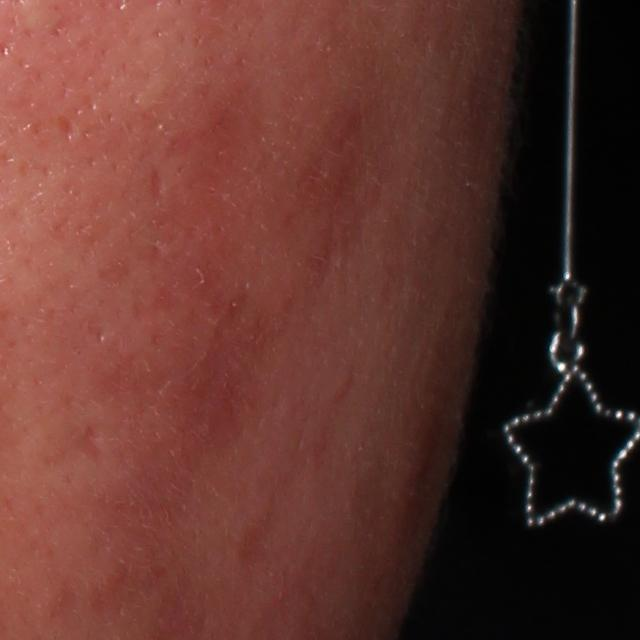atrophic_scar: (53, 415, 107, 467), (56, 110, 80, 140), (149, 168, 164, 200)
